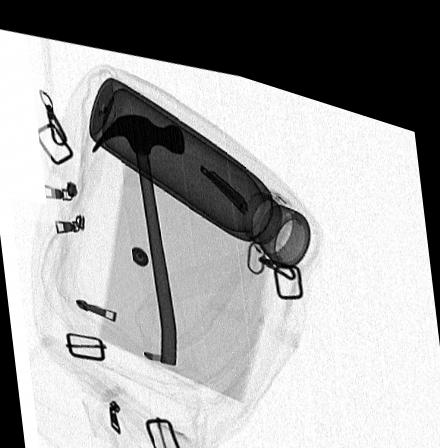Hammer: (89, 106, 185, 356)
